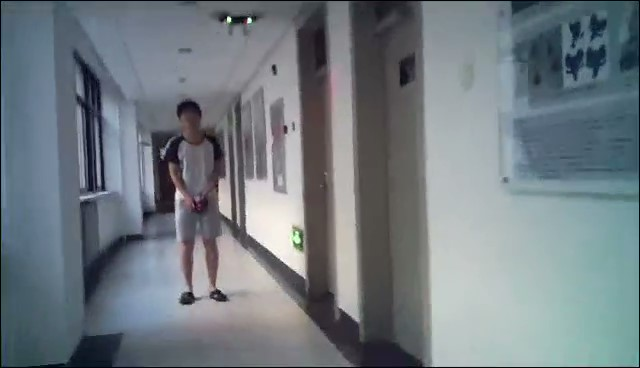drone: (209, 9, 267, 35)
person: (159, 97, 229, 305)
